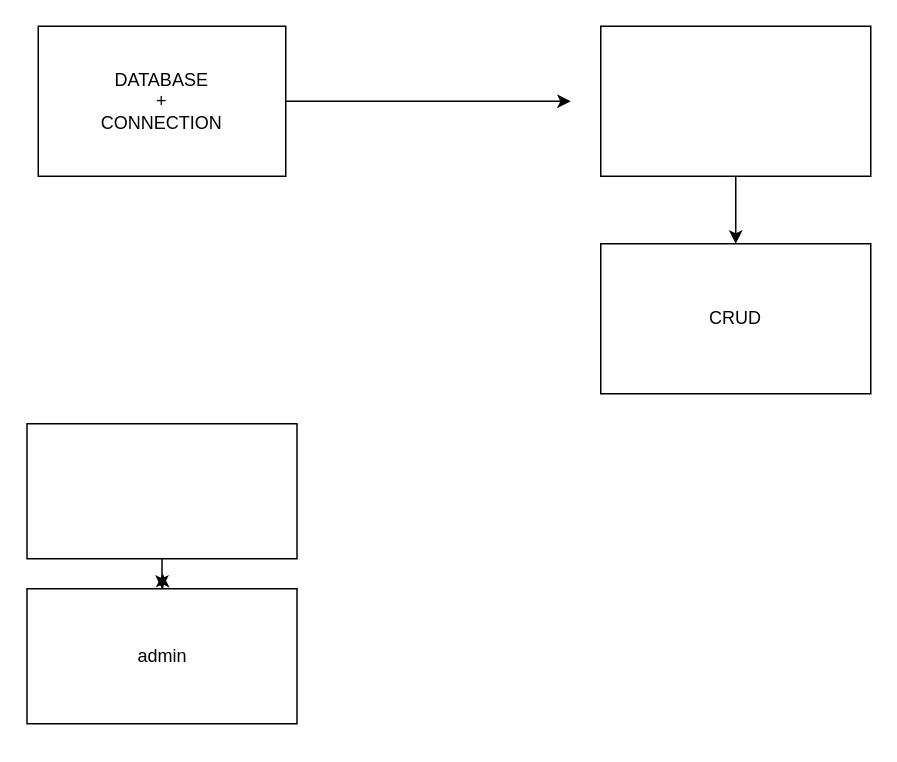
The diagram is 897 pixels wide and 762 high, and some of its shapes have lost their labels. The shapes that lost their labels are listed below. From the top down, each one's centre as x and y in pixels, then its label:
At point (735, 100): "USER login e password".
At point (161, 490): "normal_user".
